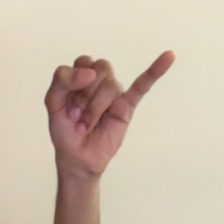J: (32, 32, 188, 184)
